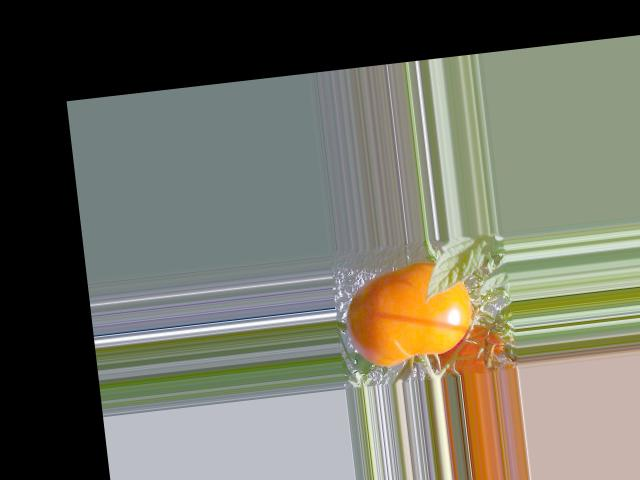tomato: (341, 257, 477, 370)
